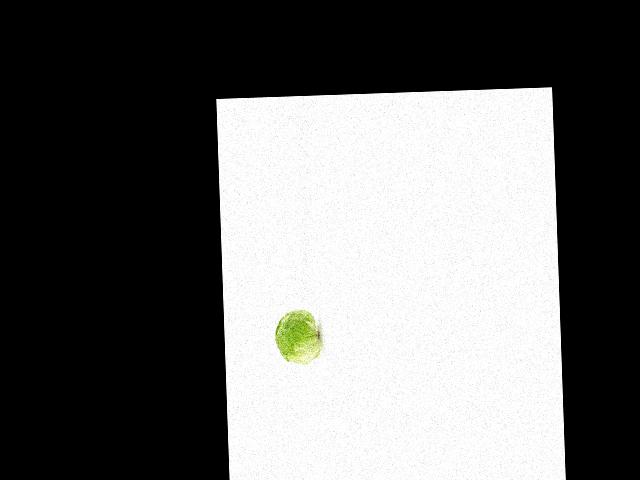lettuce: (272, 302, 318, 366)
